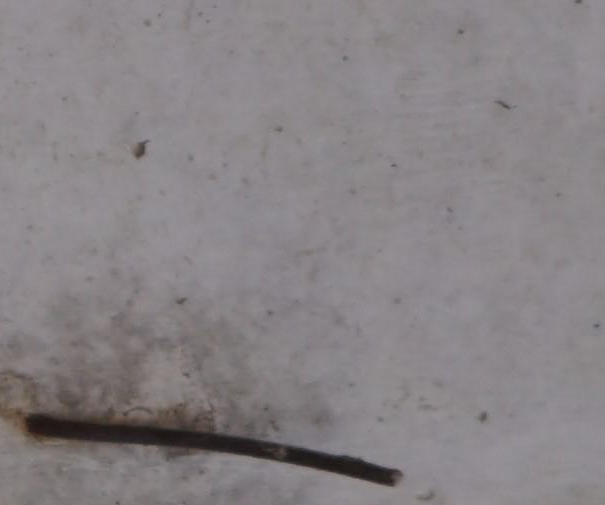Exposed reinforcement: (24, 410, 405, 487)
